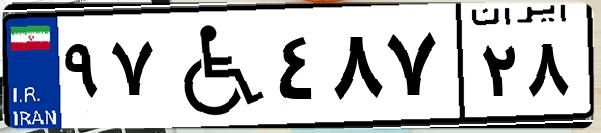2: (475, 38, 525, 113)
4: (270, 28, 330, 110)
7: (385, 28, 445, 110), (110, 28, 158, 98)
8: (330, 28, 385, 110), (525, 38, 570, 115)
9: (57, 26, 110, 100)
ژ (معلولین و جانبازان): (158, 12, 270, 120)
